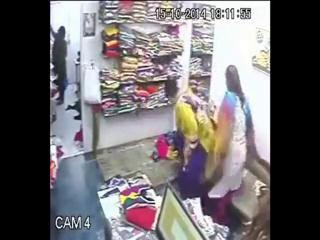shoplifting: (200, 79, 250, 199)
